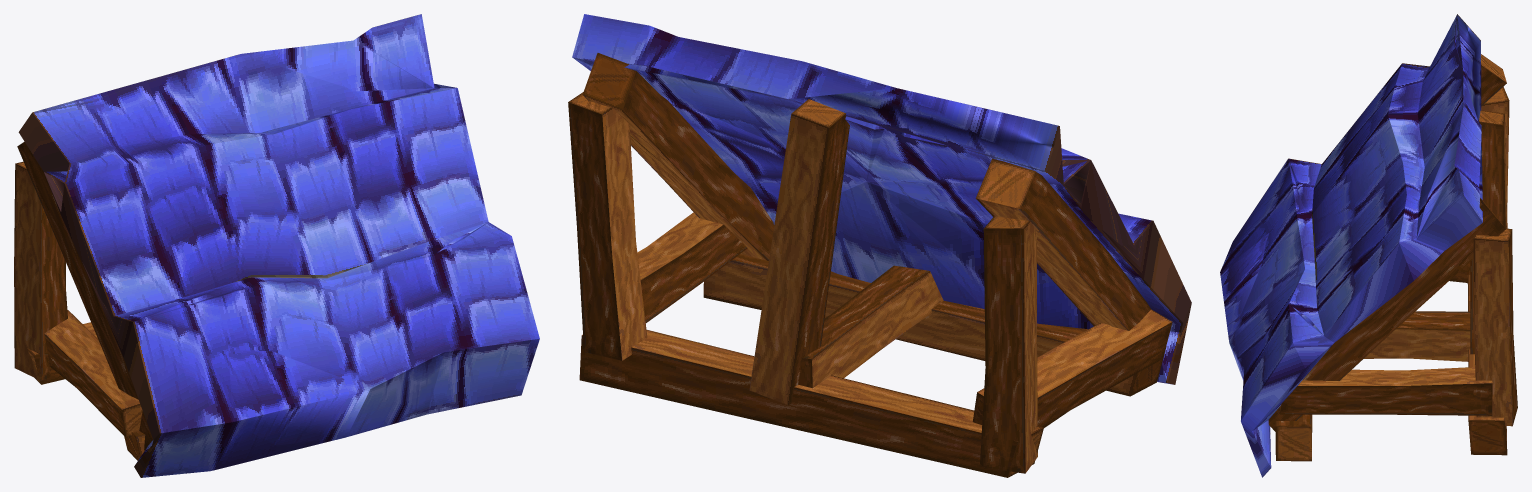
The model's file is item_castle_awning.glb.
The picture shows the model from 3 angles, left to right: view 1: azimuth 30°, elevation 25°; view 2: azimuth 150°, elevation 25°; view 3: azimuth 270°, elevation 25°; orthographic projection. The views are drawn at different scales.
Visible parts, largest first — view 1: Awning; view 2: Awning; view 3: Awning.
Part boxes in pixels (x1,y1,x2,y2): Awning: (14,14,539,477); Awning: (568,14,1191,477); Awning: (1220,14,1517,477).
Bounding box in the file's own units: 0.9546 × 0.7042 × 0.6551.
Materials: 1 (1 with a texture image).
